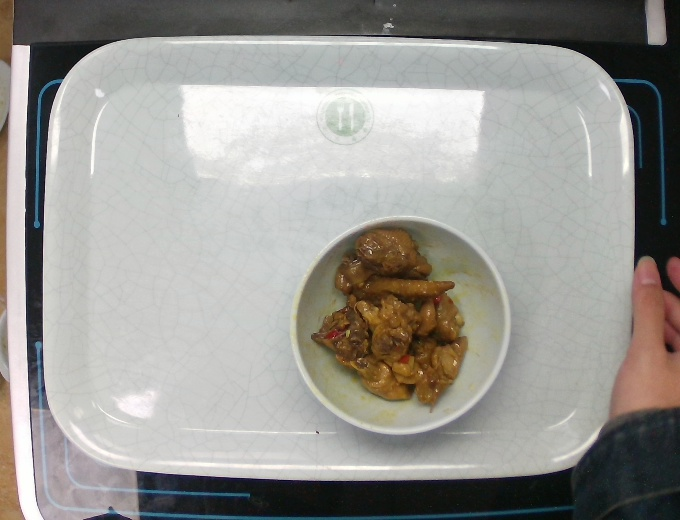JYsf-Fan_Wan: (292, 215, 513, 443)
